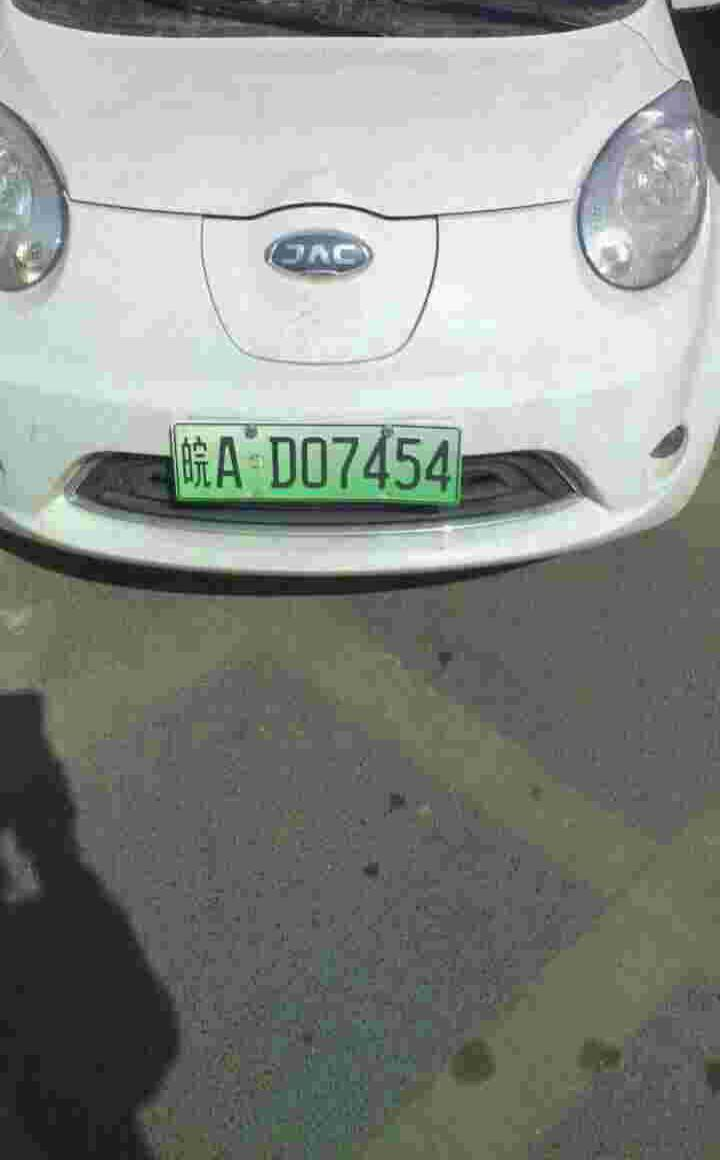car: (175, 413, 465, 514)
